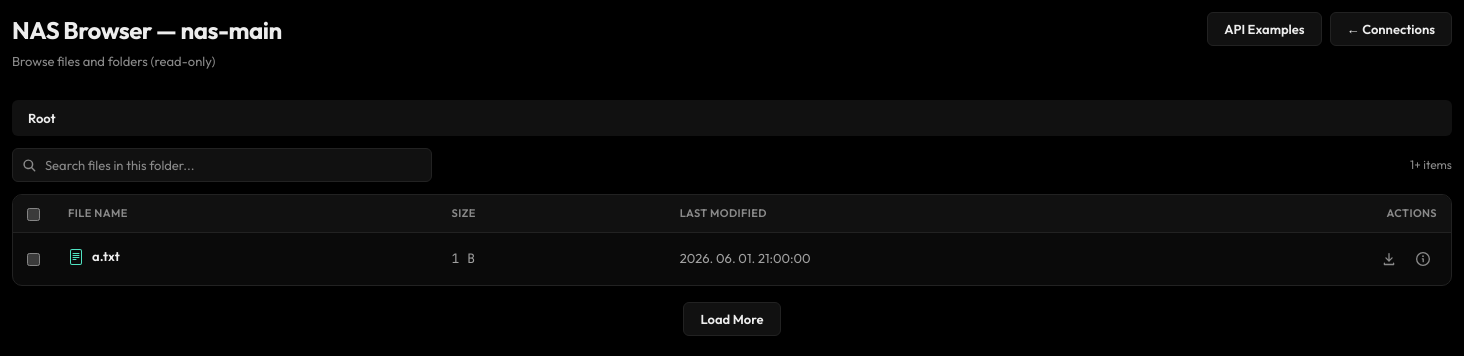
NasBrowser page › paginates with Load More only when has_more is set
Check: the button "a.txt" is shown, box [68,247,120,266]
Click the button "Load More" at {"x": 732, "y": 318}, box [684,302,780,336]
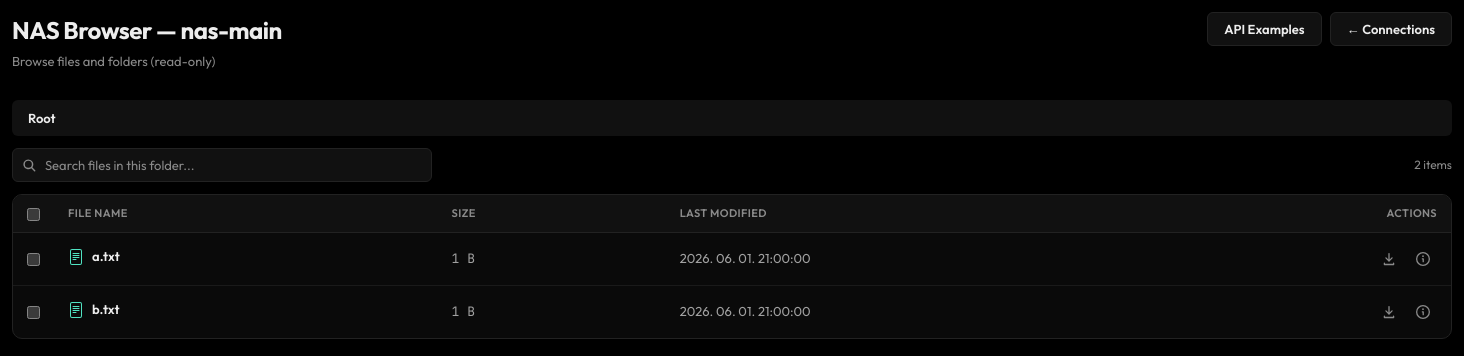
Check: the button "b.txt" is shown, box [68,300,120,319]
